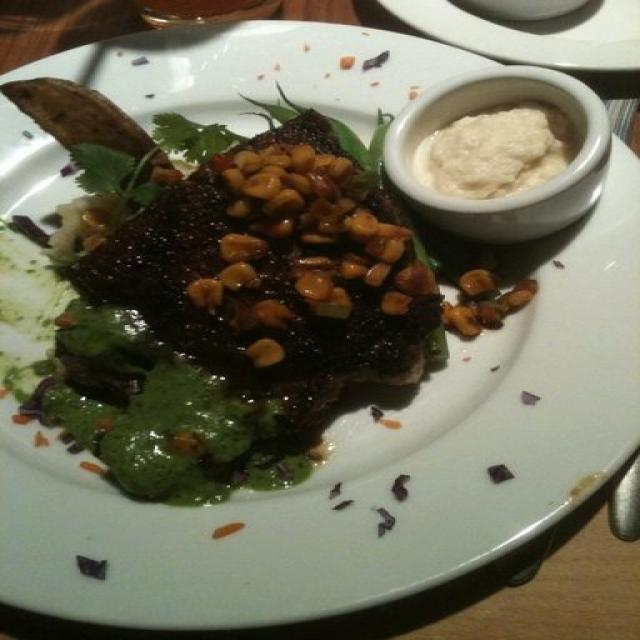Steak: (39, 117, 414, 493)
